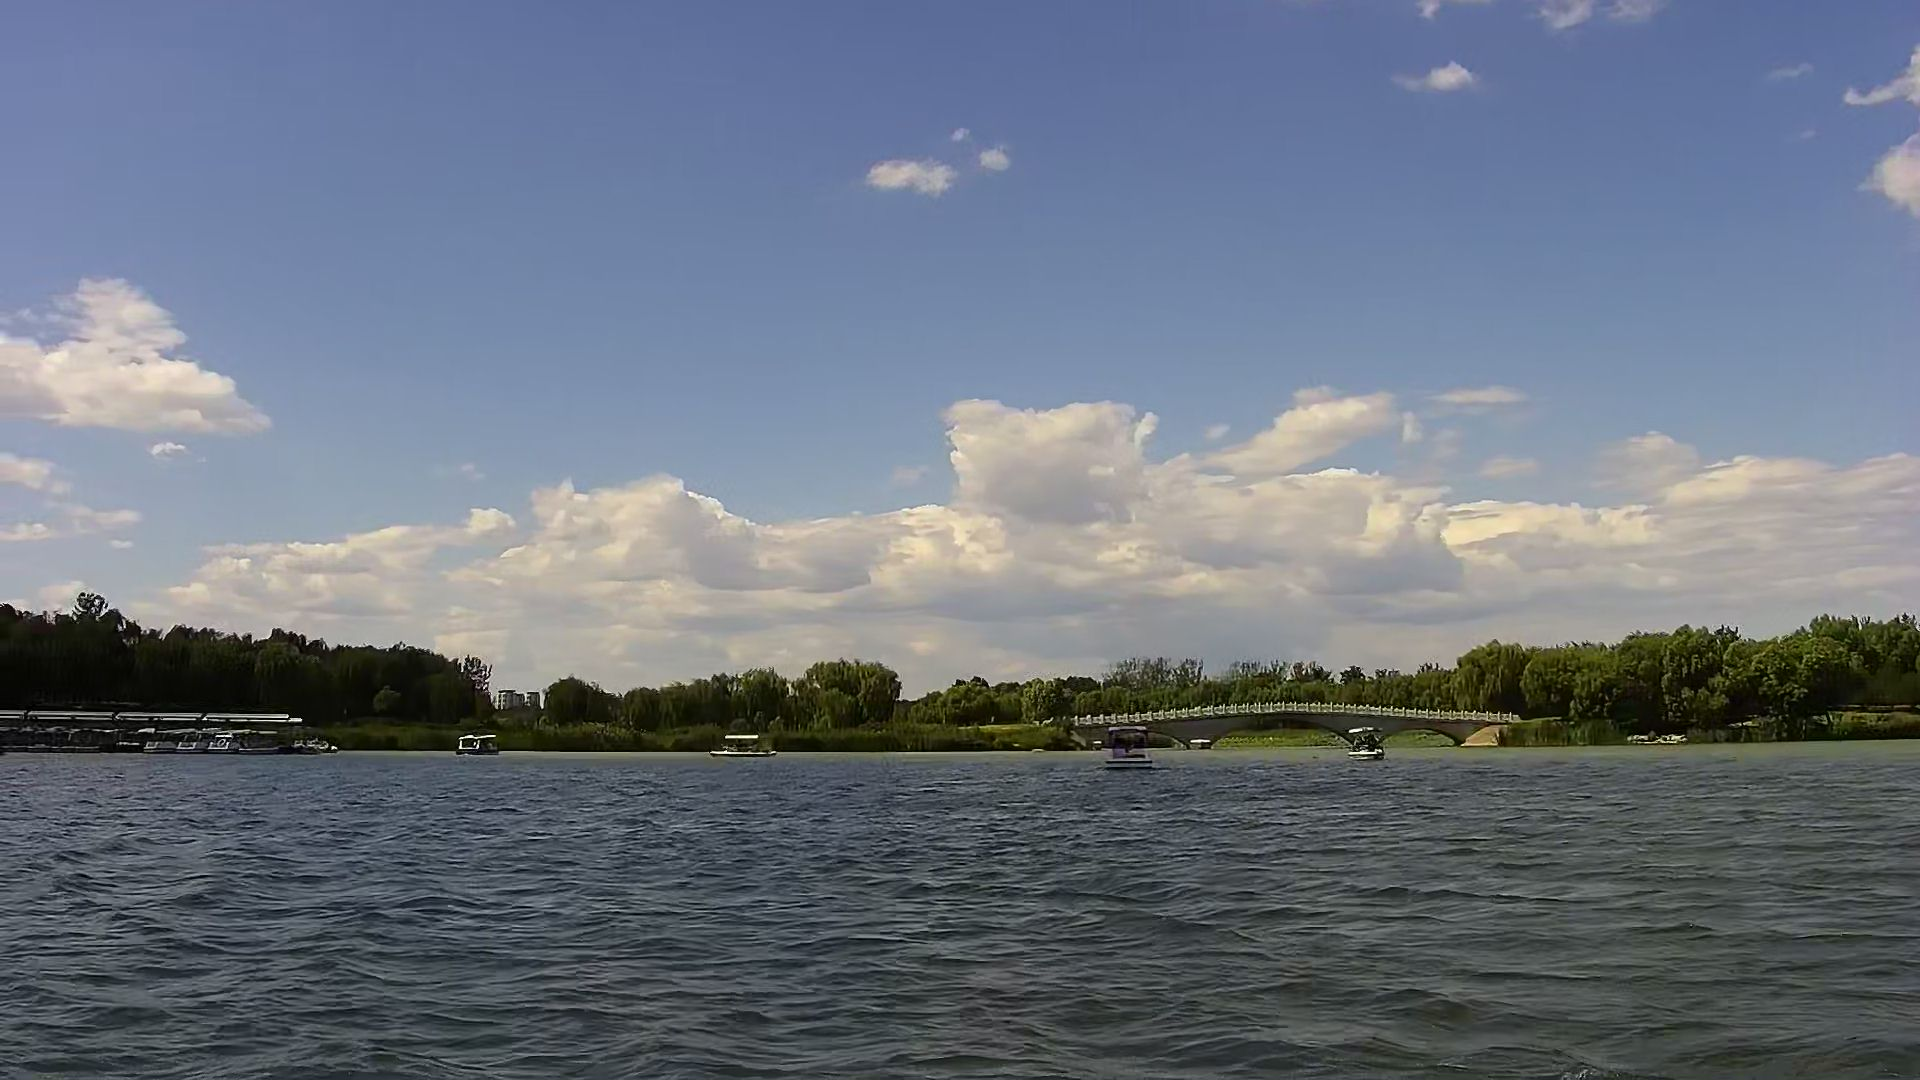boat: (1087, 720, 1164, 774), (1338, 713, 1411, 766), (698, 724, 787, 760), (451, 727, 502, 762)
bridge: (1071, 696, 1489, 746)
